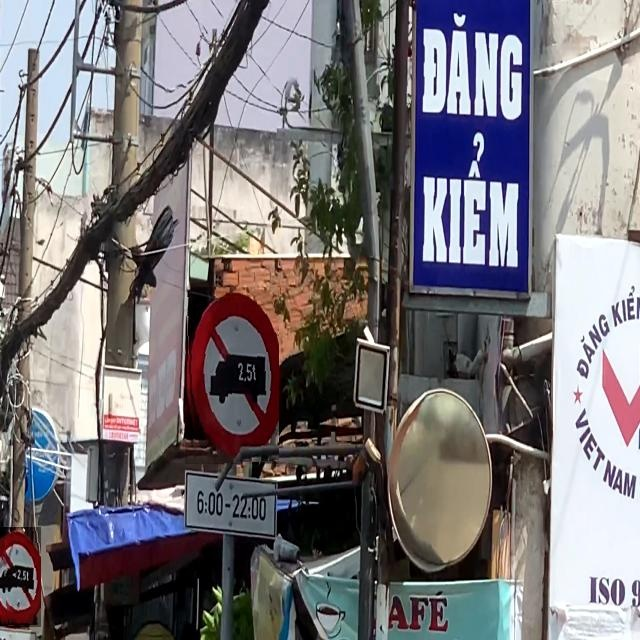bien_cam: (185, 287, 279, 464), (0, 528, 41, 628)
